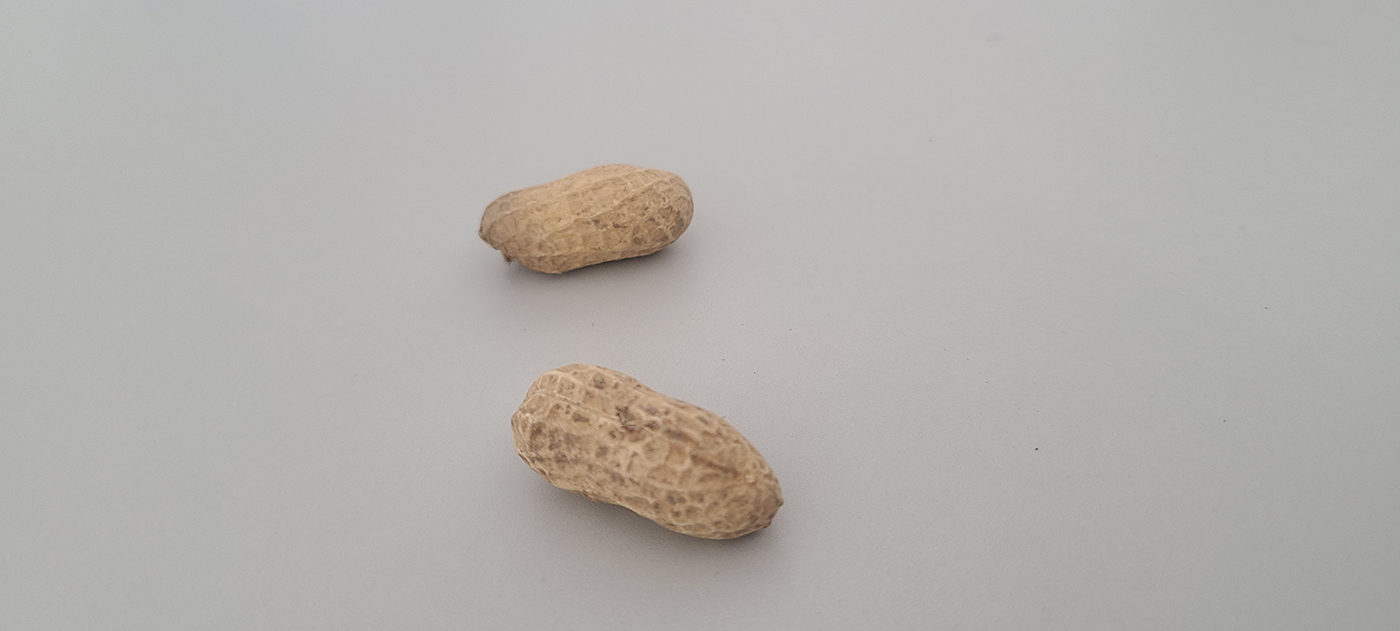h: (507, 356, 784, 544), (479, 160, 692, 277)
